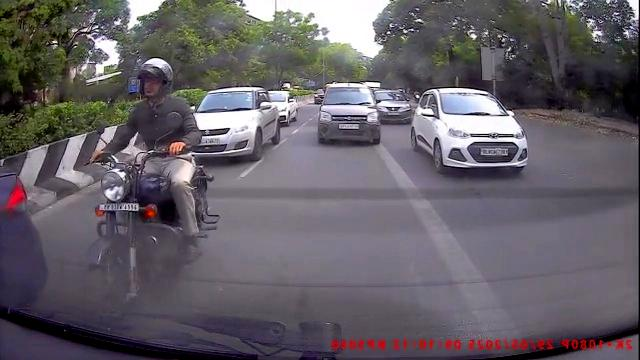motorcycle_with_helmet: (71, 55, 217, 313)
